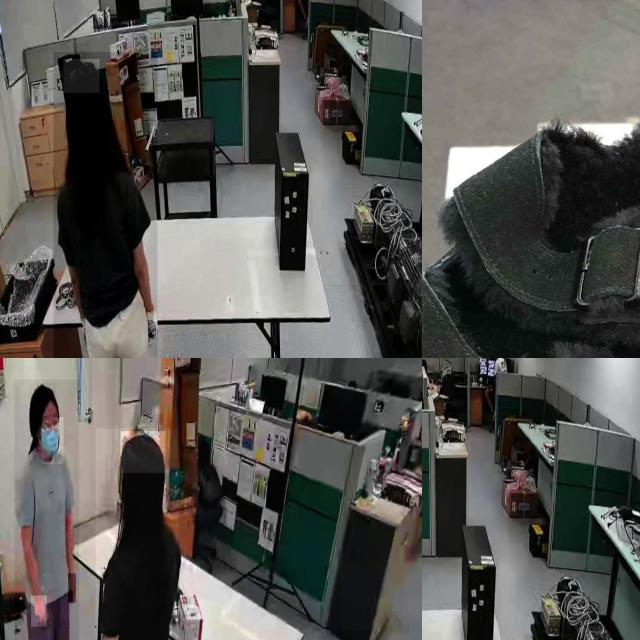Sandals: (422, 57, 640, 358)
face_mask: (42, 417, 64, 464)
hand_glove: (147, 314, 163, 345)
hand_noglove: (31, 596, 47, 628), (68, 574, 76, 604)
head_nohelmet: (120, 431, 166, 474), (64, 59, 100, 93), (29, 383, 57, 407)
person: (53, 52, 158, 358), (95, 428, 178, 640), (14, 379, 79, 640)
